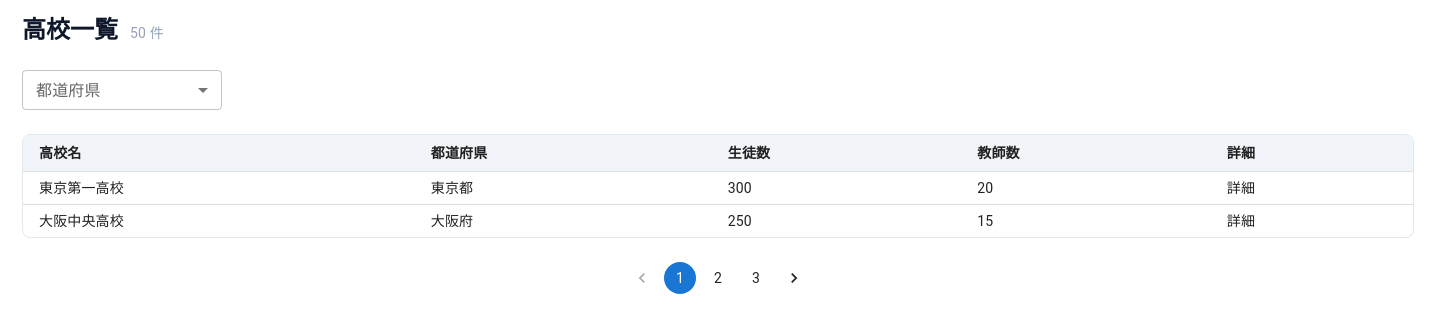
Scenario: SchoolsPresenter › 都道府県プルダウンを開くと「すべて」オプションが表示される
The image size is (1431, 311).
Press the mouse on the dropdown: {"x": 122, "y": 90} [22, 70, 222, 110]
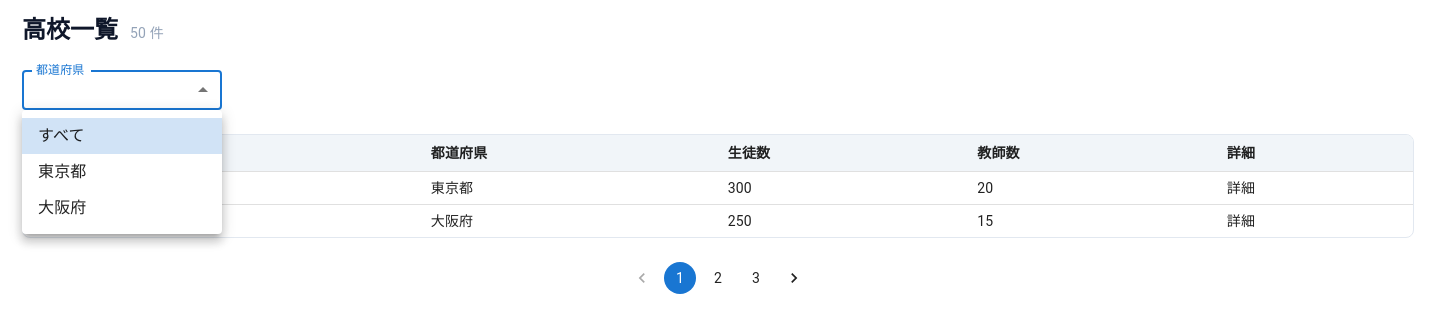
Check: the option "すべて" is shown, box [22, 118, 222, 154]
